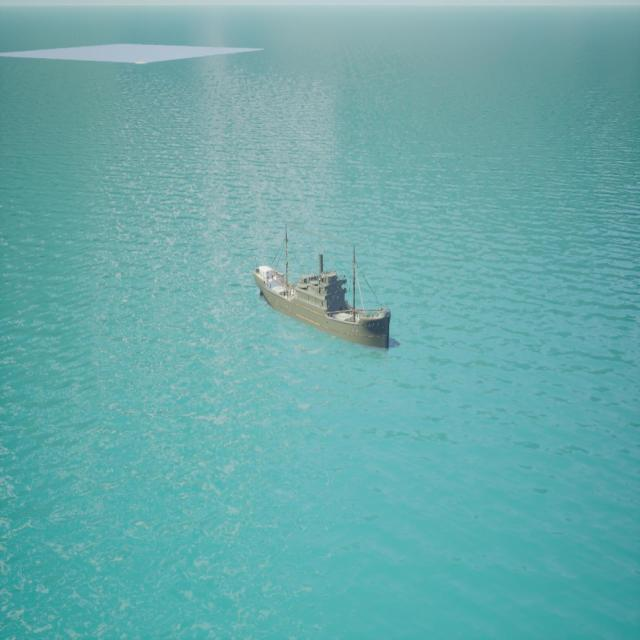fishing ship: (254, 246, 393, 353)
